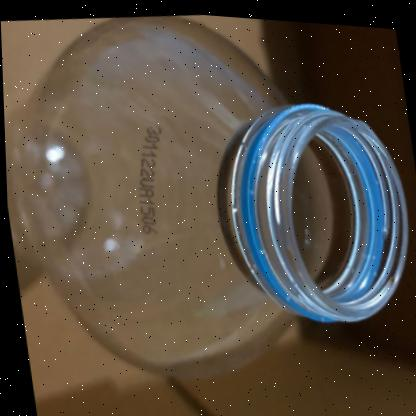open bottle: (1, 1, 416, 416)
